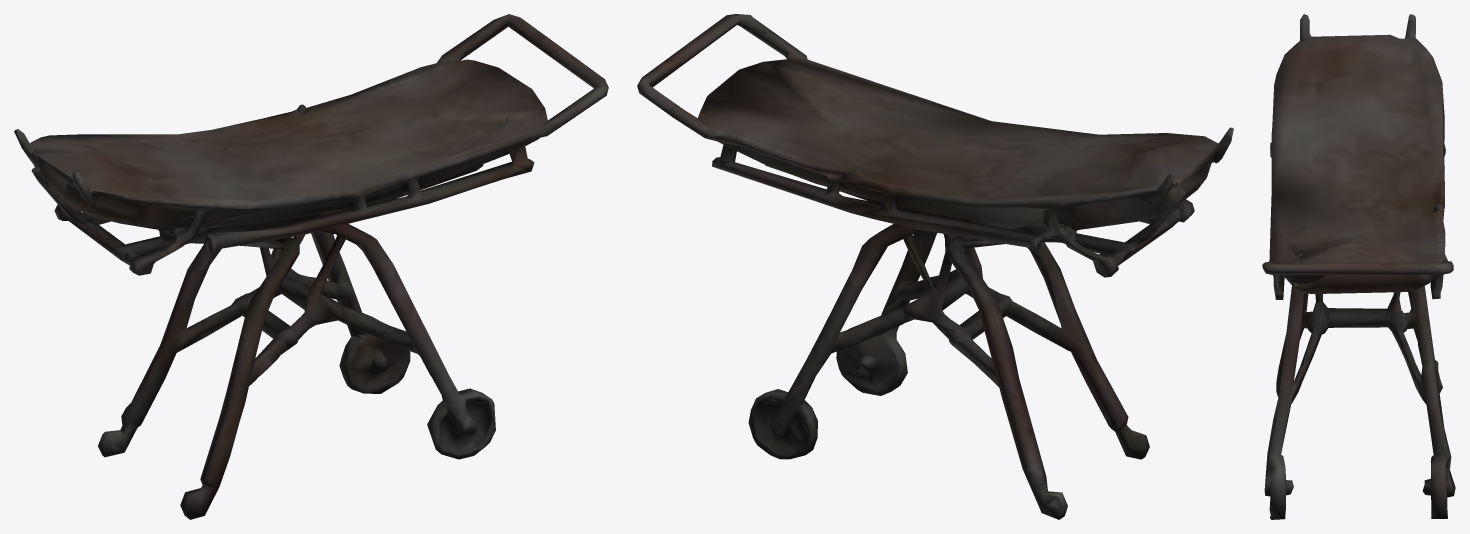
Rendered from simple-iron-gurney-v001.glb.
The picture shows the model from 3 angles, left to right: view 1: azimuth 30°, elevation 25°; view 2: azimuth 150°, elevation 25°; view 3: azimuth 270°, elevation 25°; orthographic projection. The views are drawn at different scales.
Visible parts, largest first — view 1: simple-iron-gurney; view 2: simple-iron-gurney; view 3: simple-iron-gurney.
Boxes of the visible parts, x1,y1,x2,y2 form: simple-iron-gurney: [14, 14, 608, 519]; simple-iron-gurney: [637, 14, 1233, 519]; simple-iron-gurney: [1262, 14, 1455, 519].
Size of the model in its own units: 1.32 by 0.887 by 0.463.
Materials: 1 (1 with a texture image).
